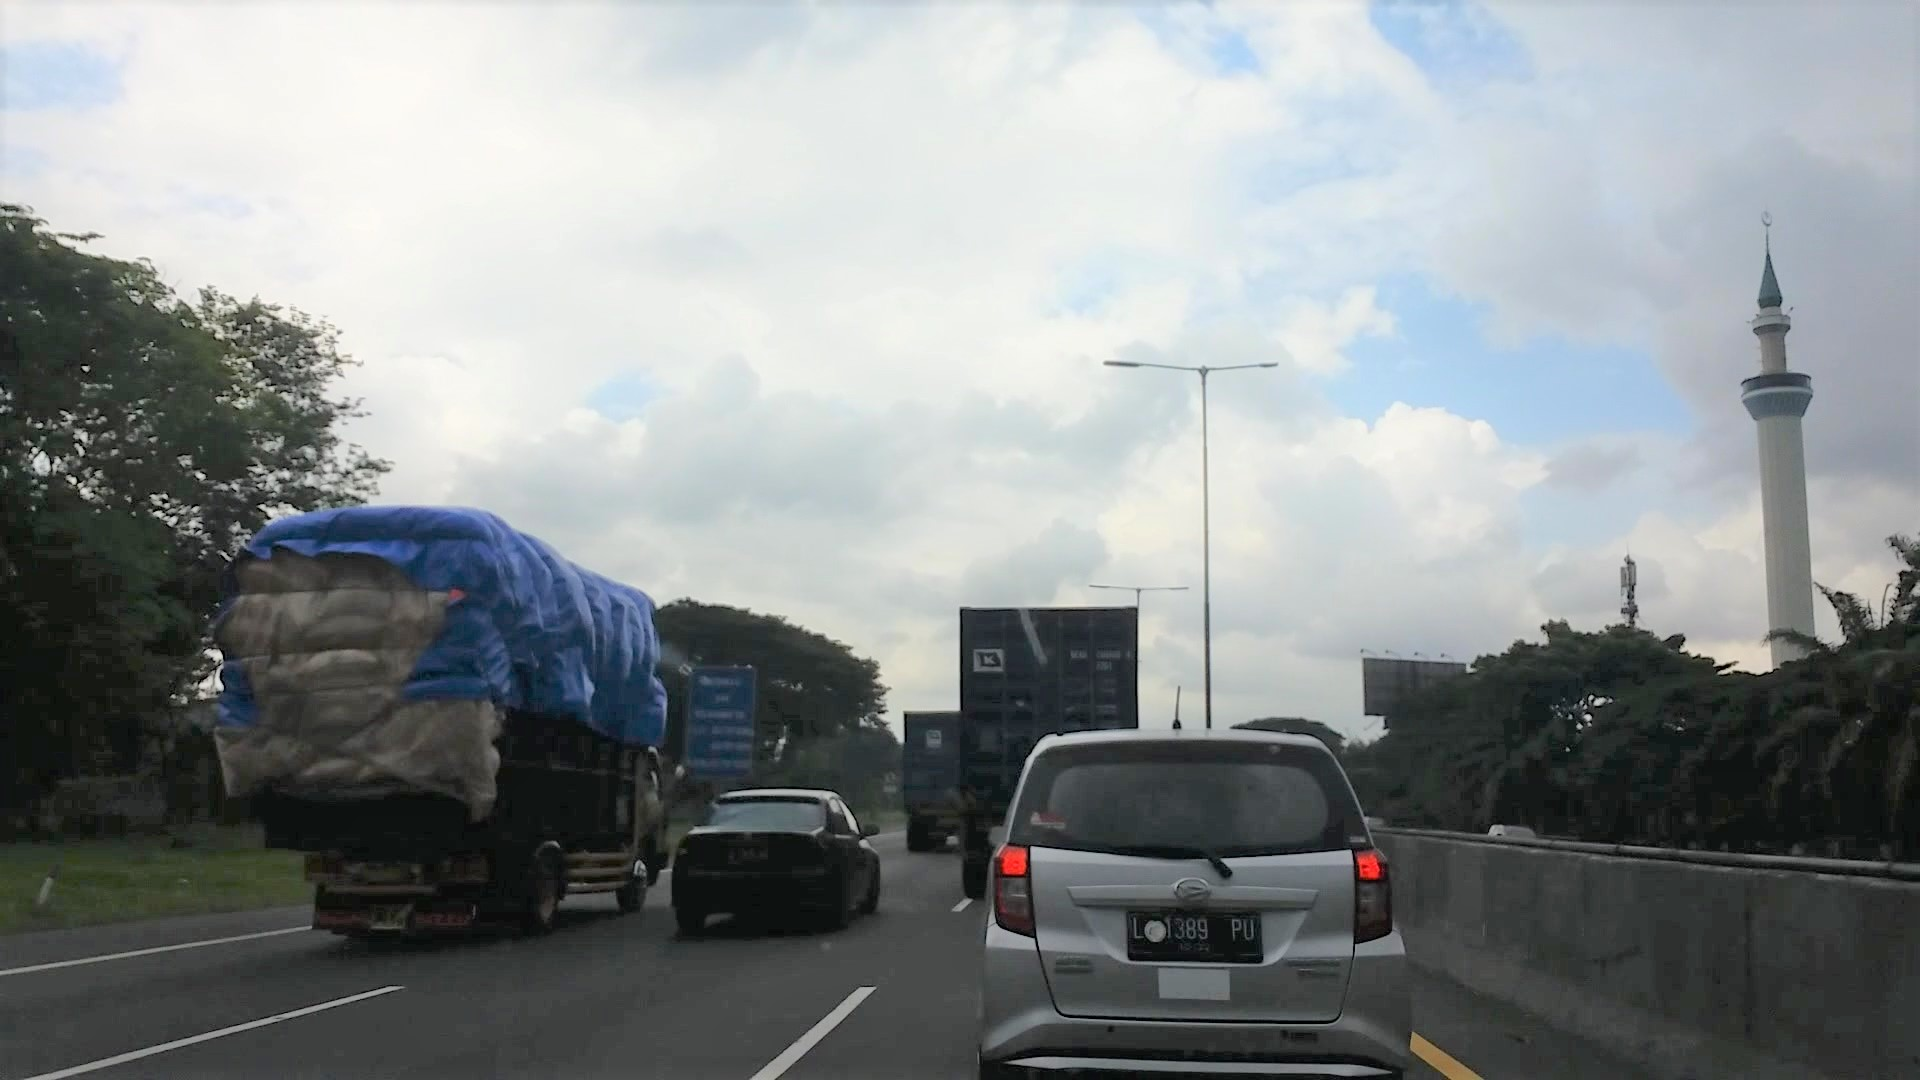plate_positive: (1127, 909, 1265, 963)
